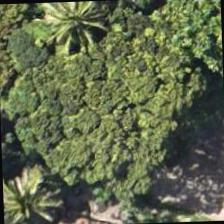Kelapa_Sawit: (27, 0, 119, 70), (2, 160, 67, 223)
